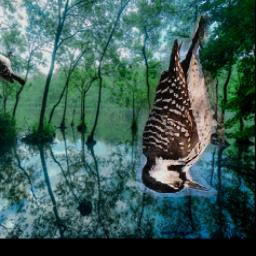Woodpecker: (136, 11, 225, 198), (0, 47, 26, 86)
